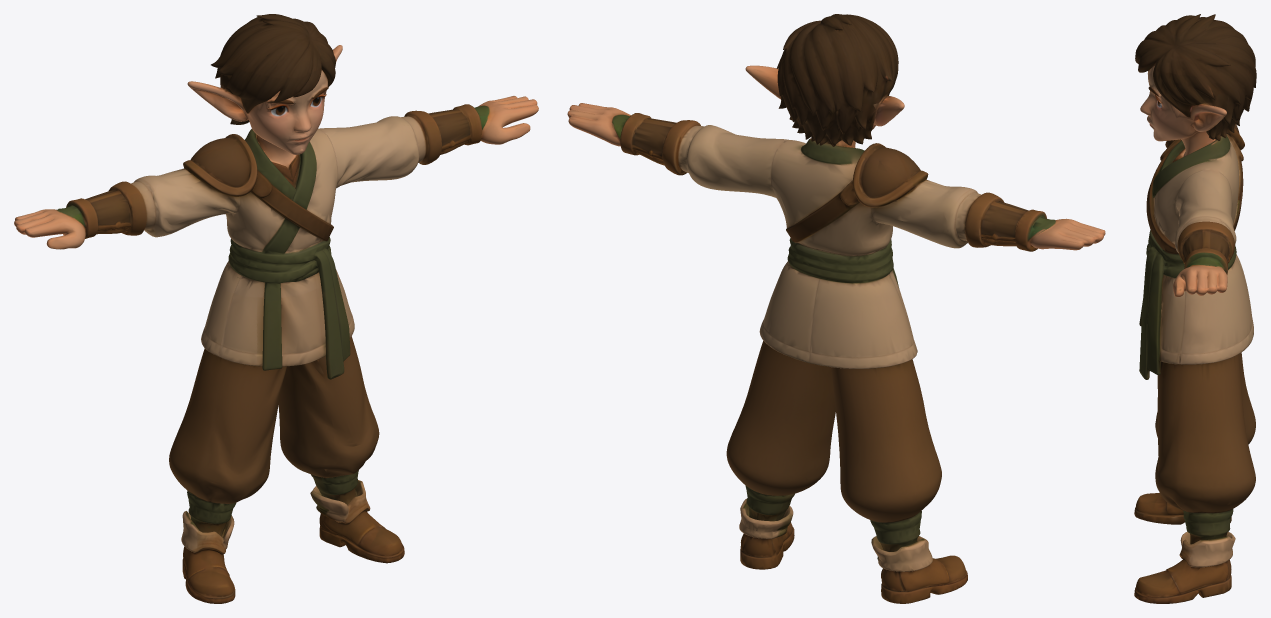
The model's file is Flora_.fbx.
3 views of the same model, side by side, from view 1: azimuth 30°, elevation 25°; view 2: azimuth 150°, elevation 25°; view 3: azimuth 270°, elevation 25° (orthographic). The views are drawn at different scales.
Parts seen in each view (by area): view 1: material; view 2: material; view 3: material.
Part boxes in pixels (x1,y1,x2,y2): material: (14,14,538,603); material: (567,14,1105,603); material: (1134,14,1256,603).
Bounding box in the file's own units: 109 × 109 × 22.56.
Materials: 1 (1 with a texture image).
